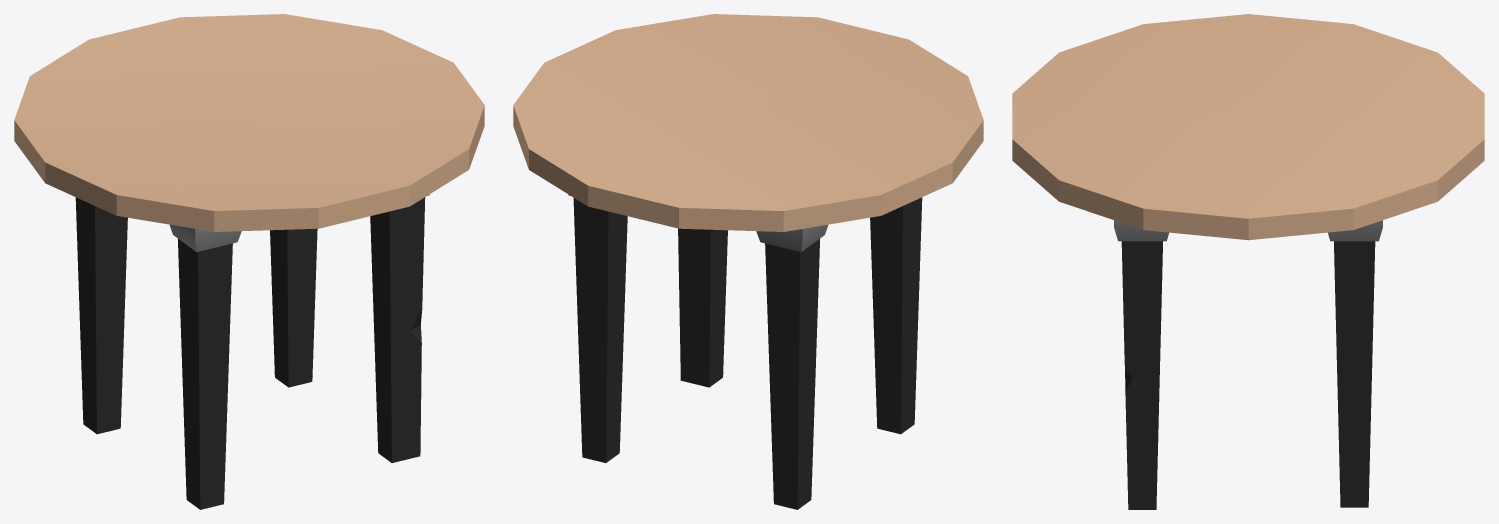
File: SM_Props_Cafe_15.fbx
The picture shows the model from 3 angles, left to right: view 1: azimuth 30°, elevation 25°; view 2: azimuth 150°, elevation 25°; view 3: azimuth 270°, elevation 25°; orthographic projection. The views are drawn at different scales.
Visible parts, largest first — view 1: SM_Props_Cafe_15; view 2: SM_Props_Cafe_15; view 3: SM_Props_Cafe_15.
Part boxes in pixels (x1=…): SM_Props_Cafe_15: x1=14, y1=14, x2=484, y2=509; SM_Props_Cafe_15: x1=513, y1=14, x2=983, y2=509; SM_Props_Cafe_15: x1=1012, y1=14, x2=1484, y2=509.
Size of the model in its own units: 112 by 85.83 by 109.
